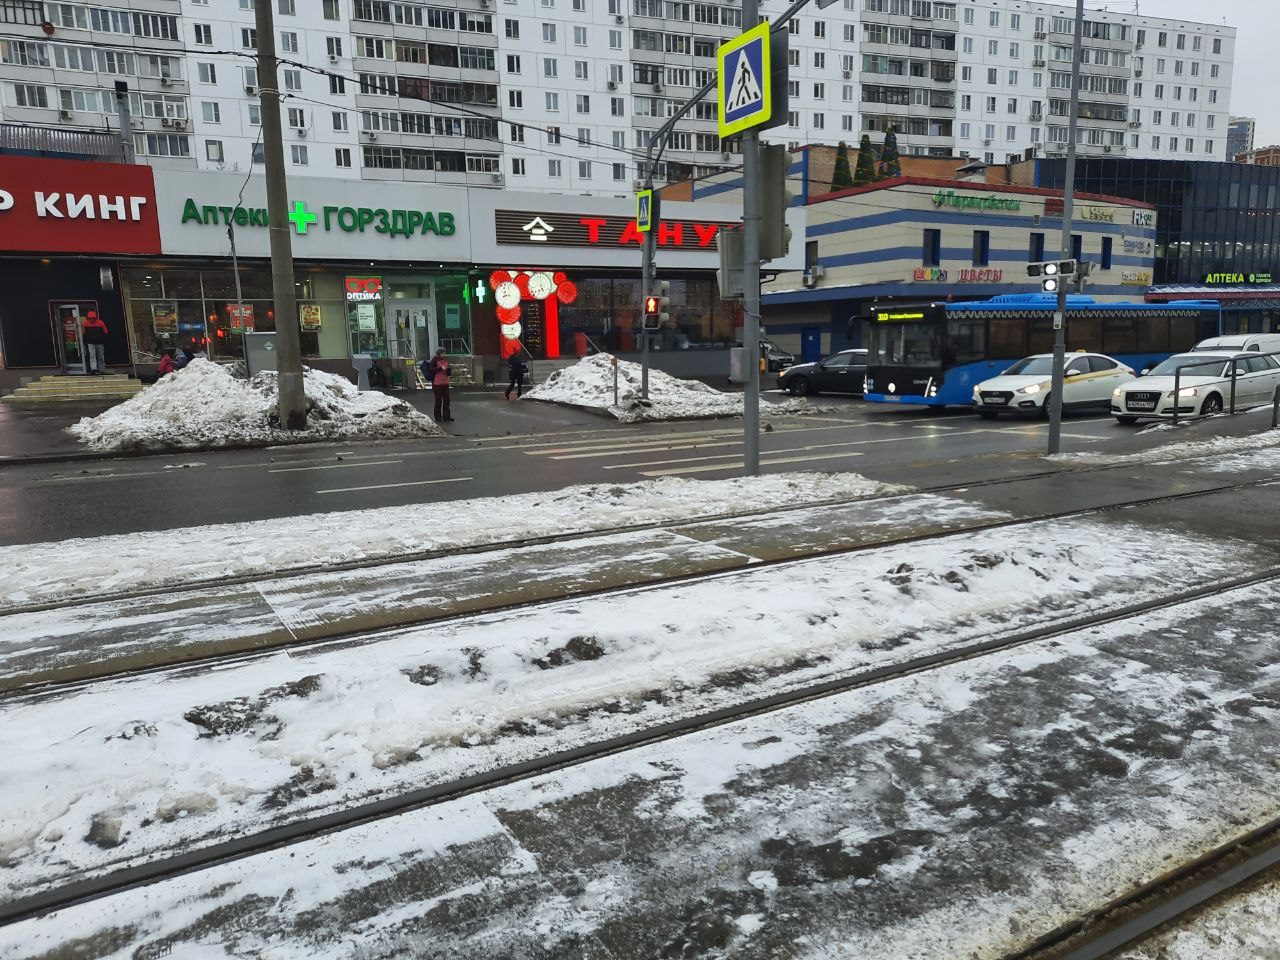sombie: (418, 341, 467, 427)
